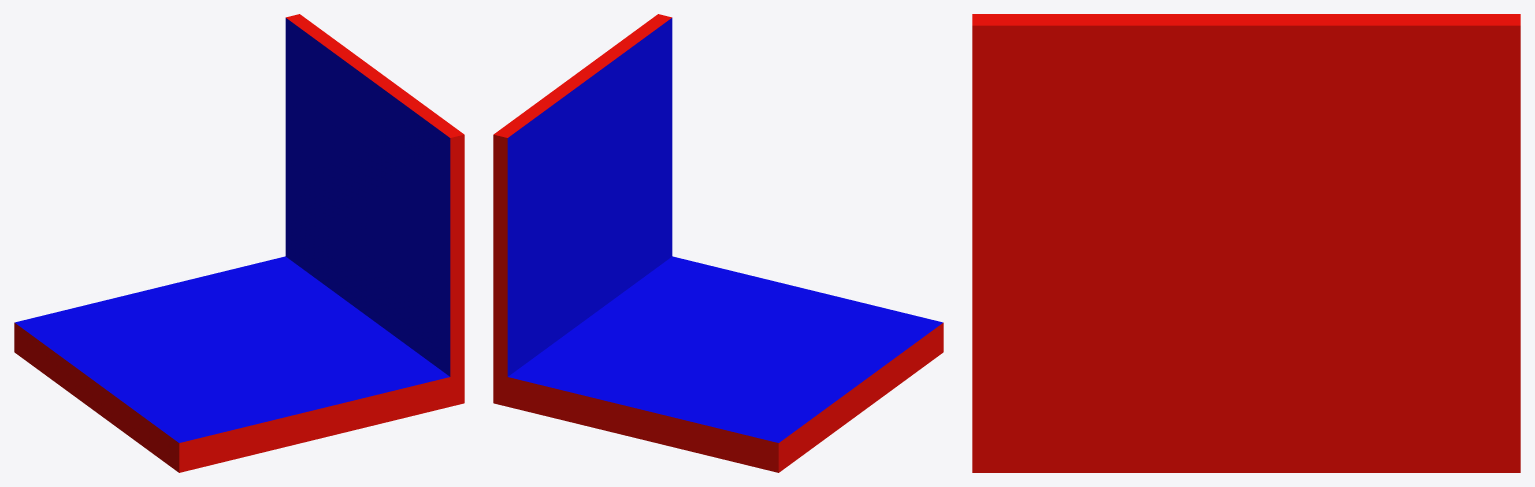
Rendered from one_wall.obj.
The picture shows the model from 3 angles, left to right: view 1: azimuth 30°, elevation 25°; view 2: azimuth 150°, elevation 25°; view 3: azimuth 270°, elevation 25°; orthographic projection. The views are drawn at different scales.
Parts seen in each view (by area): view 1: floor, wall2; view 2: floor, wall2; view 3: wall2, floor.
Boxes of the visible parts, box(x1,y1,x2,y2) form: floor: box(14, 256, 464, 472); wall2: box(285, 14, 464, 376); floor: box(493, 256, 943, 472); wall2: box(493, 14, 672, 376); wall2: box(972, 14, 1520, 423); floor: box(972, 423, 1520, 472).
Bounding box in the file's own units: 10 × 9 × 10.
